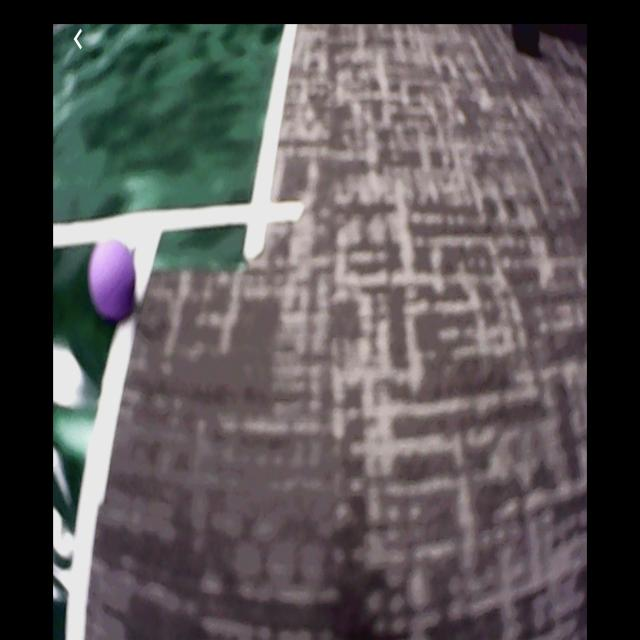ball: (90, 241, 138, 325)
